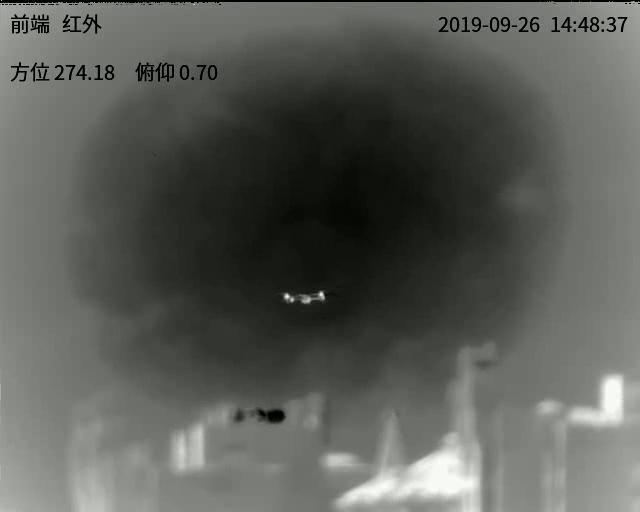DRONE: (282, 290, 326, 304)
